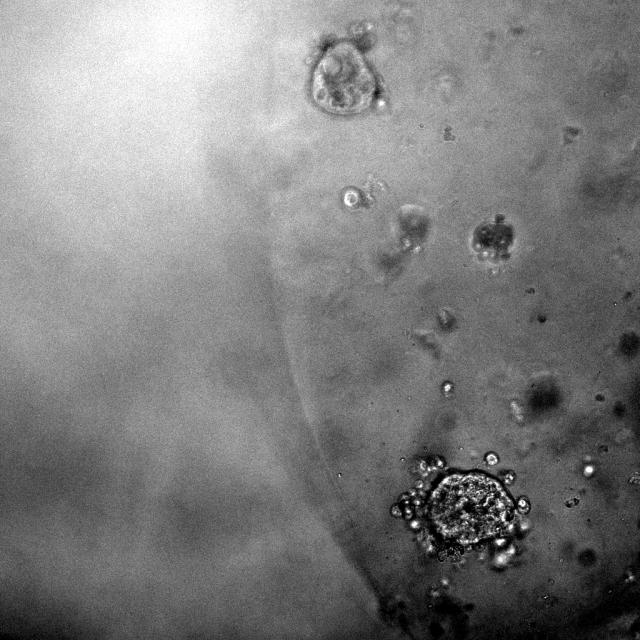organoid: (391, 455, 531, 570), (309, 24, 384, 116), (471, 214, 514, 263), (484, 451, 499, 470), (564, 496, 580, 508), (628, 472, 639, 487), (595, 393, 604, 401), (538, 314, 546, 323), (526, 287, 534, 294)
